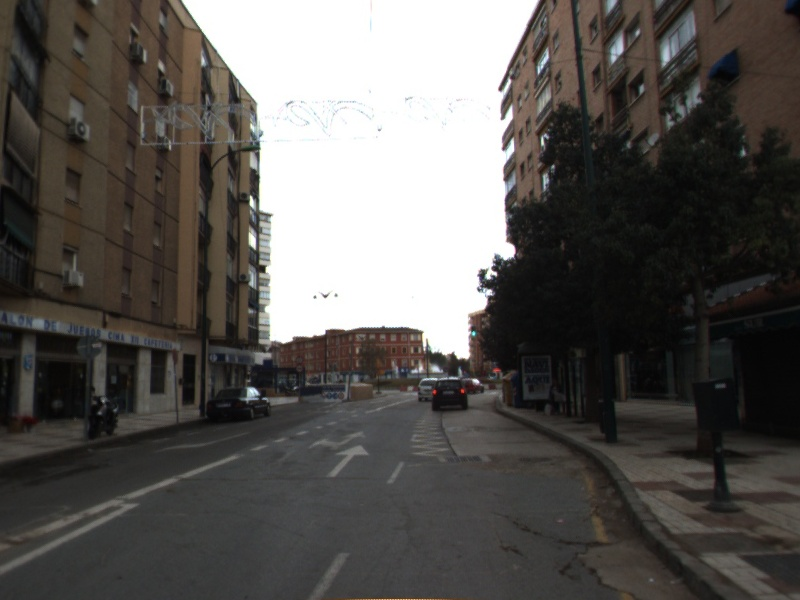STRAIGHT: (323, 443, 372, 479)
STRAIGHT_LEFT: (306, 428, 368, 452)
